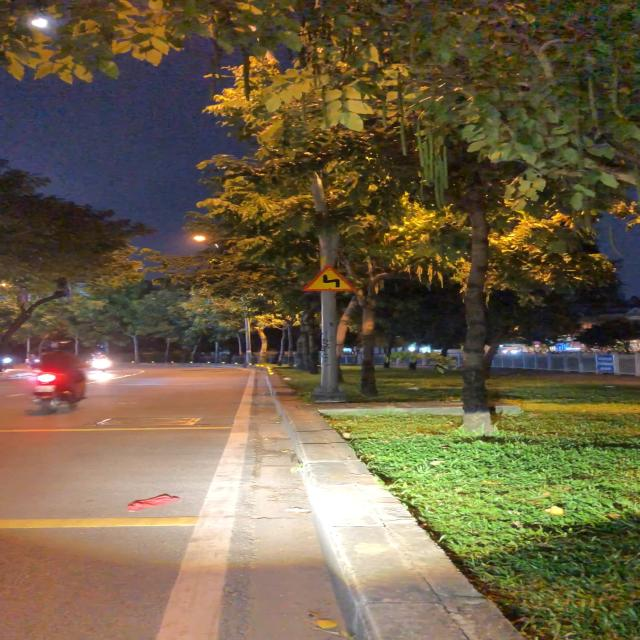Bien bao nhieu cho ngoat nguy hiem lien tiep: (299, 266, 363, 294)
